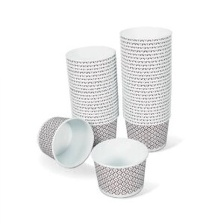paper_cup: (115, 21, 177, 155), (60, 39, 121, 157), (87, 135, 152, 201), (31, 112, 96, 170)
